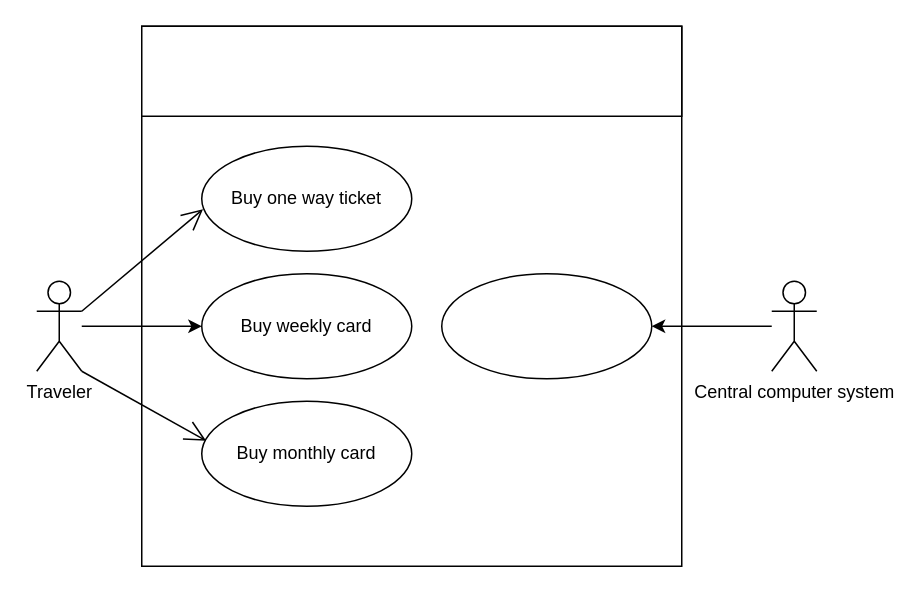
The diagram is 920 pixels wide and 593 high, and some of its shapes have lost their labels. Each missing label, with the centre of its shape:
The ticket distributor system: point 411,70
Update tariff: point 546,325
